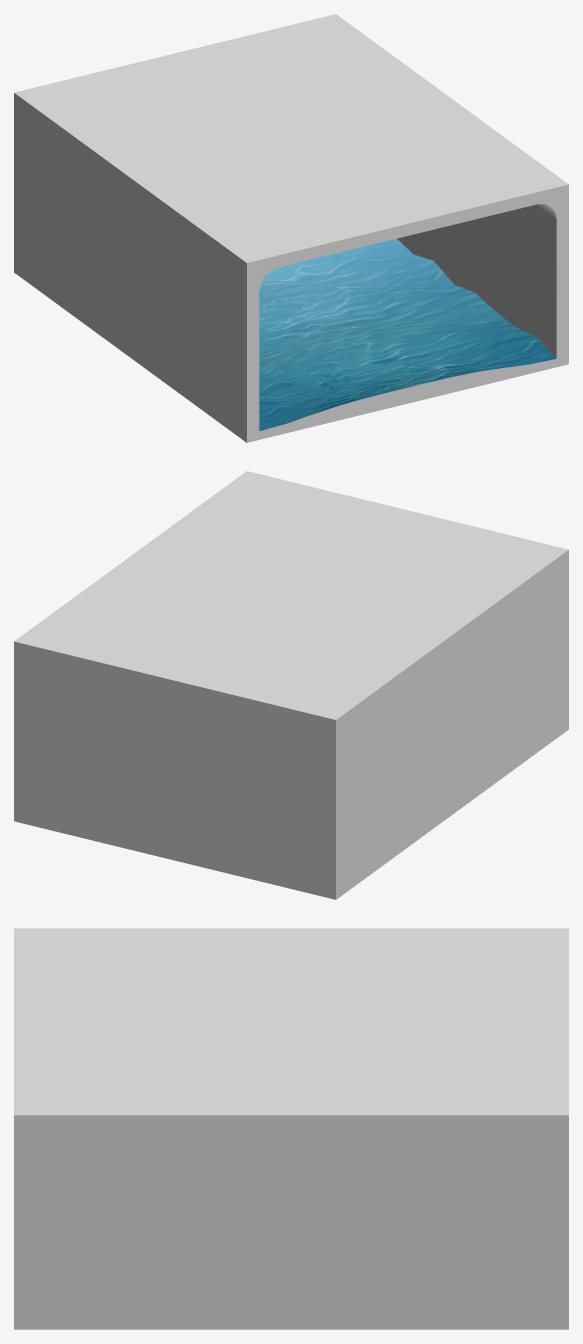
Rendered from Sea_Stage.fbx.
3 renders of one model, top to bottom at view 1: azimuth 30°, elevation 25°; view 2: azimuth 150°, elevation 25°; view 3: azimuth 270°, elevation 25°, orthographic. The views are drawn at different scales.
Parts seen in each view (by area): view 1: pCube1; view 2: pCube1; view 3: pCube1.
Boxes of the visible parts, x1=… form: pCube1: x1=14, y1=14, x2=568, y2=442; pCube1: x1=14, y1=471, x2=568, y2=899; pCube1: x1=14, y1=928, x2=568, y2=1329.
Bounding box in the file's own units: 17.33 × 9.25 × 21.7.
